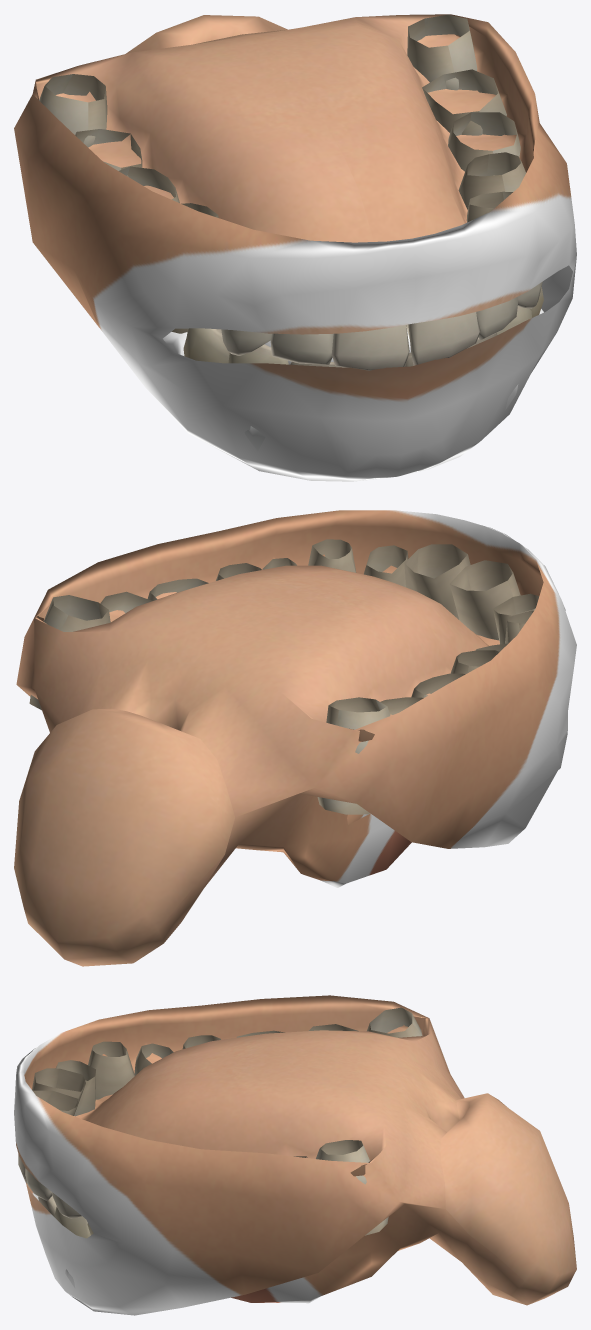
File: woman_mouth.fbx
3 views of the same model, one above another, from view 1: azimuth 30°, elevation 25°; view 2: azimuth 150°, elevation 25°; view 3: azimuth 270°, elevation 25° (orthographic). The views are drawn at different scales.
Parts seen in each view (by area): view 1: polySurface56, polySurface29, polySurface45, polySurface50, polySurface34, polySurface26, polySurface27, polySurface28, polySurface51, polySurface47, polySurface35, polySurface52 (+4 smaller); view 2: polySurface56, polySurface50, polySurface34, polySurface29, polySurface45, polySurface35, polySurface36, polySurface51, polySurface42, polySurface27, polySurface28, polySurface44; view 3: polySurface56, polySurface52, polySurface50, polySurface45, polySurface29, polySurface51, polySurface34, polySurface53, polySurface25.
Part boxes in pixels (box(x1,y1,x2,y2)): polySurface56: box(14, 14, 576, 481); polySurface29: box(407, 14, 477, 90); polySurface45: box(39, 74, 107, 147); polySurface50: box(331, 325, 409, 370); polySurface34: box(406, 312, 480, 365); polySurface26: box(458, 152, 525, 209); polySurface27: box(422, 69, 506, 135); polySurface28: box(448, 112, 520, 175); polySurface51: box(270, 333, 333, 364); polySurface47: box(183, 328, 229, 363); polySurface35: box(476, 297, 517, 340); polySurface52: box(221, 329, 271, 355); polySurface56: box(14, 510, 576, 966); polySurface50: box(449, 560, 520, 640); polySurface34: box(404, 544, 470, 619); polySurface29: box(43, 595, 110, 631); polySurface45: box(326, 697, 390, 753); polySurface35: box(364, 545, 408, 587); polySurface36: box(308, 539, 356, 572); polySurface51: box(493, 593, 539, 644); polySurface42: box(450, 650, 499, 673); polySurface27: box(100, 591, 152, 613); polySurface28: box(147, 578, 208, 600); polySurface44: box(411, 673, 465, 697); polySurface56: box(14, 995, 576, 1315); polySurface52: box(88, 1041, 134, 1099); polySurface50: box(32, 1068, 85, 1115); polySurface45: box(367, 1007, 422, 1037); polySurface29: box(316, 1140, 369, 1184); polySurface51: box(56, 1060, 95, 1116); polySurface34: box(18, 1090, 78, 1183); polySurface53: box(134, 1043, 173, 1075); polySurface25: box(55, 1206, 90, 1238).
Size of the model in its own units: 5.76 by 3.48 by 7.74.
